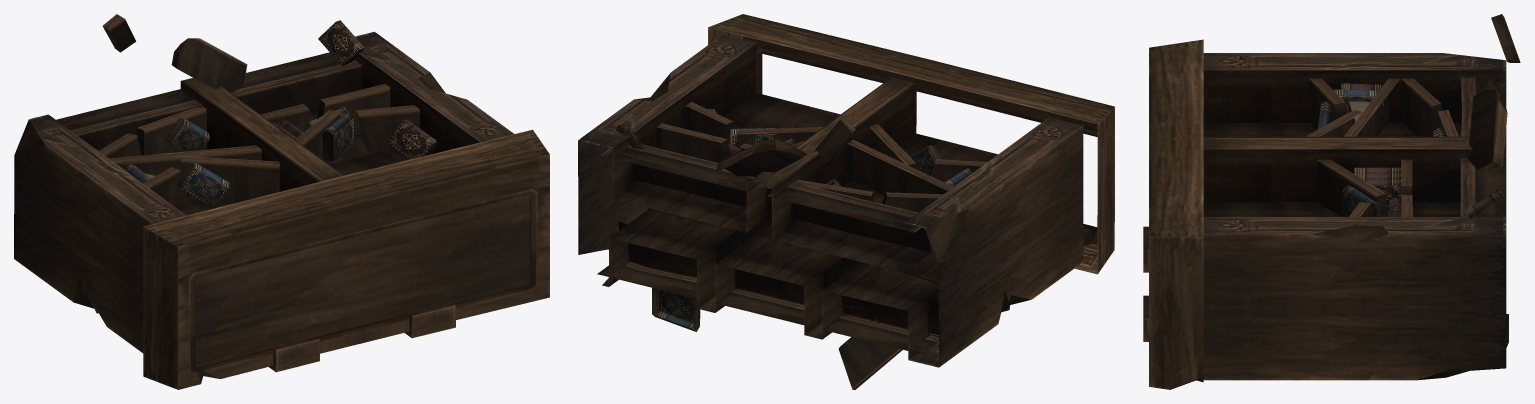
Rendered from tanxian_fuben_257_shugui_04.obj.
3 views of the same model, side by side, from view 1: azimuth 30°, elevation 25°; view 2: azimuth 150°, elevation 25°; view 3: azimuth 270°, elevation 25° (orthographic). The views are drawn at different scales.
Visible parts, largest first — view 1: tanxian_fuben_257_shugui_04; view 2: tanxian_fuben_257_shugui_04; view 3: tanxian_fuben_257_shugui_04.
Boxes of the visible parts, x1,y1,x2,y2 form: tanxian_fuben_257_shugui_04: [14, 14, 549, 389]; tanxian_fuben_257_shugui_04: [578, 14, 1114, 389]; tanxian_fuben_257_shugui_04: [1143, 14, 1520, 389].
Size of the model in its own units: 276 by 183 by 220.
Materials: 2 (2 with a texture image).
